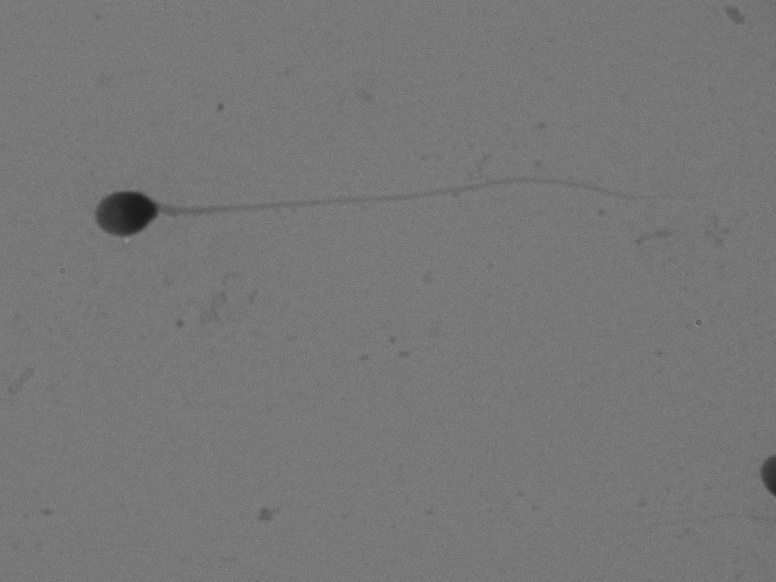Normal: (80, 151, 723, 259)
